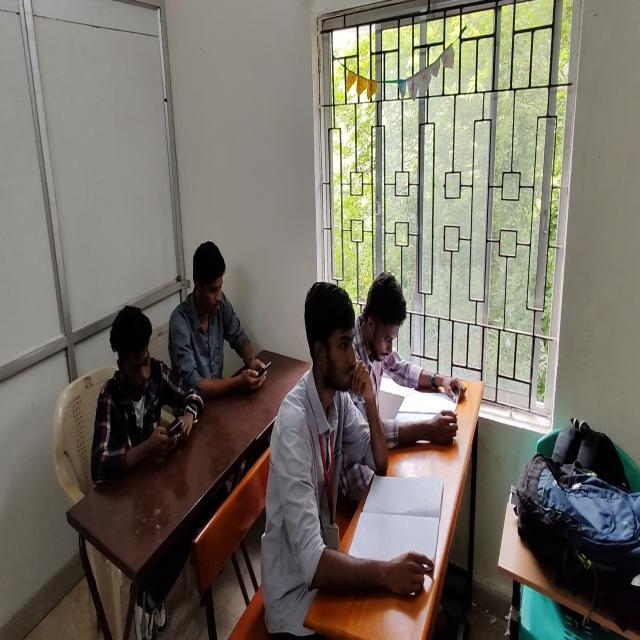reading: (266, 280, 394, 640), (359, 270, 463, 409)
using_mobile: (90, 303, 206, 488), (167, 240, 267, 410)
